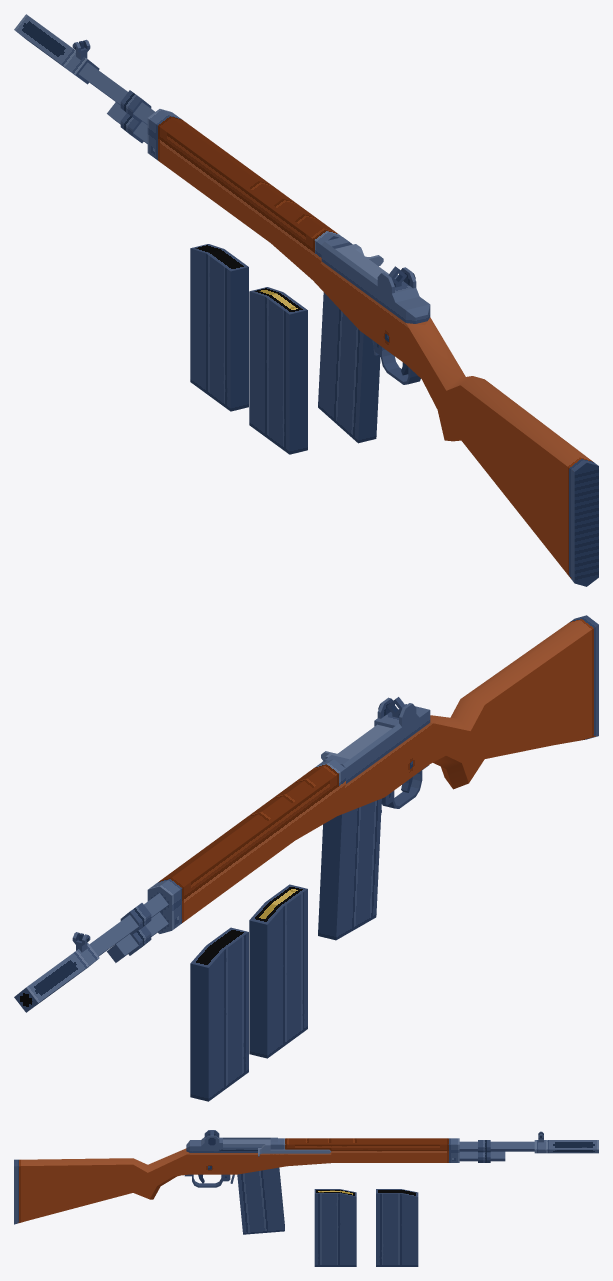
3 renders of one model, top to bottom at view 1: azimuth 30°, elevation 25°; view 2: azimuth 150°, elevation 25°; view 3: azimuth 270°, elevation 25°, orthographic. The views are drawn at different scales.
Parts seen in each view (by area): view 1: M14, magazine_empty, magazine_full_2, magazine_full; view 2: M14, magazine_full_2, magazine_empty, magazine_full; view 3: M14, magazine_full_2, magazine_empty, magazine_full, charging handle.
Boxes of the visible parts, x1,y1,x2,y2 form: M14: [14, 14, 598, 586]; magazine_empty: [190, 244, 248, 411]; magazine_full_2: [249, 287, 307, 454]; magazine_full: [318, 292, 380, 443]; M14: [14, 615, 598, 1012]; magazine_full_2: [249, 884, 307, 1058]; magazine_empty: [190, 927, 248, 1101]; magazine_full: [318, 798, 381, 940]; M14: [14, 1130, 598, 1224]; magazine_full_2: [314, 1189, 356, 1266]; magazine_empty: [376, 1189, 418, 1266]; magazine_full: [237, 1167, 284, 1234]; charging handle: [258, 1144, 331, 1156].
Bounding box in the file's own units: 87.5 × 504 × 1994.
Materials: 1 (1 with a texture image).
